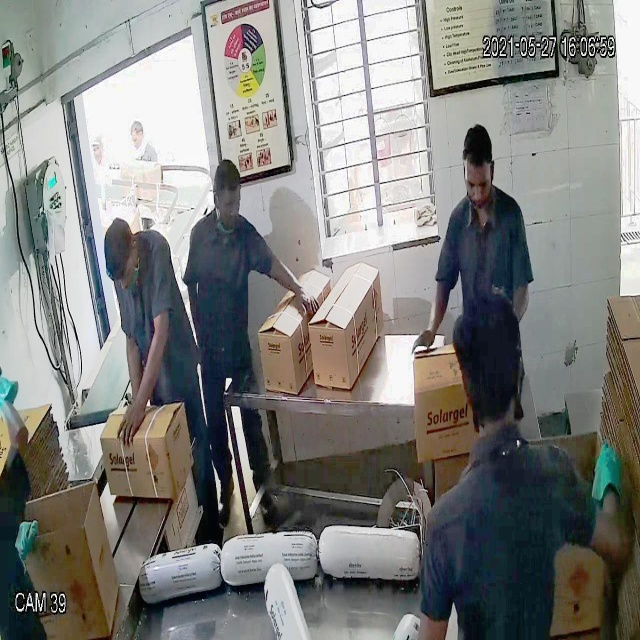Sin_gafas: (460, 164, 495, 203)
